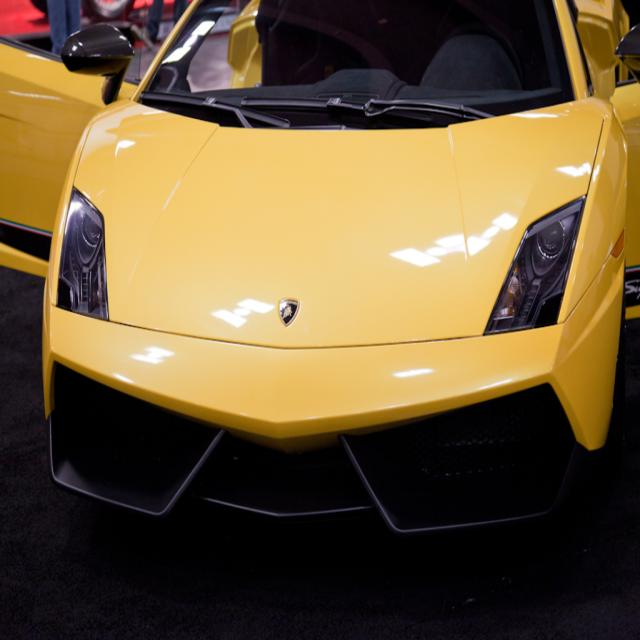car: (43, 0, 636, 531)
